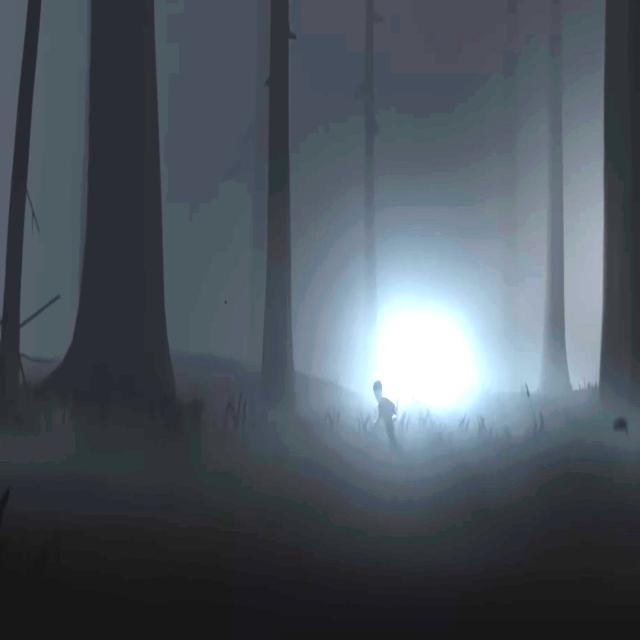boy: (373, 380, 397, 441)
